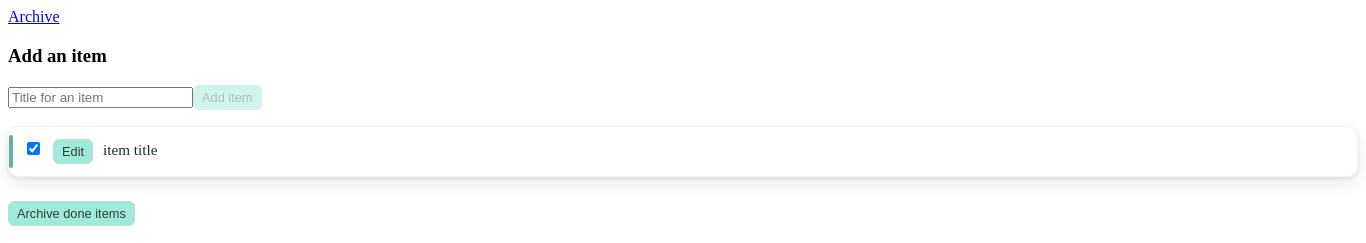
TodoPage › arhived item should be archived optimistically
Expected: the text "item title" is shown, [103,141,158,158]
What coordinates should you click on to do the following:
click the button "Archive done items"
I would click on:
 (71, 214)
Its box is [8,201,135,226].
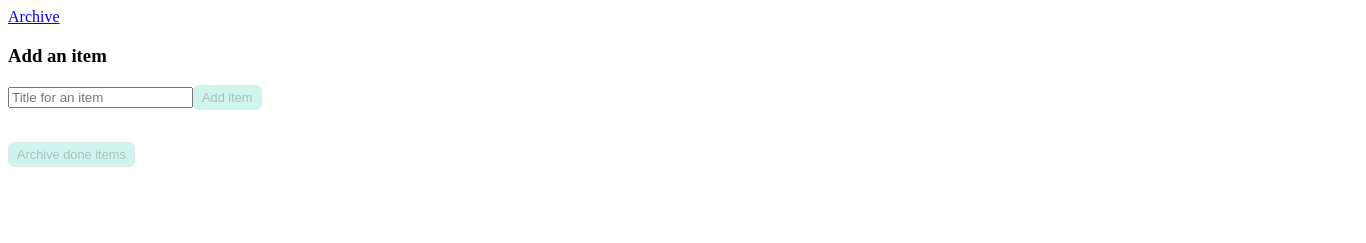
Expected: the text "item title" is gone
